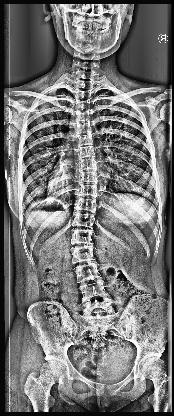Vertebrae: (74, 262, 103, 284), (80, 282, 109, 302), (81, 300, 117, 316), (70, 244, 98, 264), (70, 228, 94, 246), (73, 212, 97, 228), (76, 197, 98, 213), (78, 183, 98, 197), (76, 122, 94, 136), (77, 133, 95, 147), (79, 145, 97, 159), (79, 158, 97, 172), (75, 110, 91, 124), (75, 88, 93, 100), (80, 172, 98, 184), (74, 100, 92, 110)
